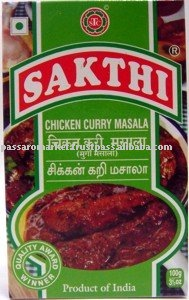VEG: (10, 16, 29, 35)
